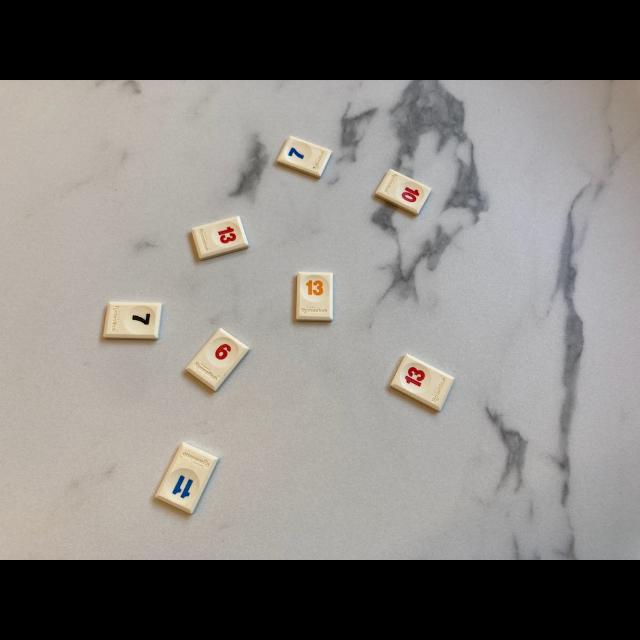black_7: (104, 302, 161, 340)
blue_11: (155, 442, 218, 514)
blue_7: (276, 136, 331, 178)
orange_13: (296, 273, 332, 321)
red_10: (376, 169, 431, 215)
red_13: (391, 354, 455, 411), (191, 216, 249, 260)
red_6: (186, 329, 249, 391)
